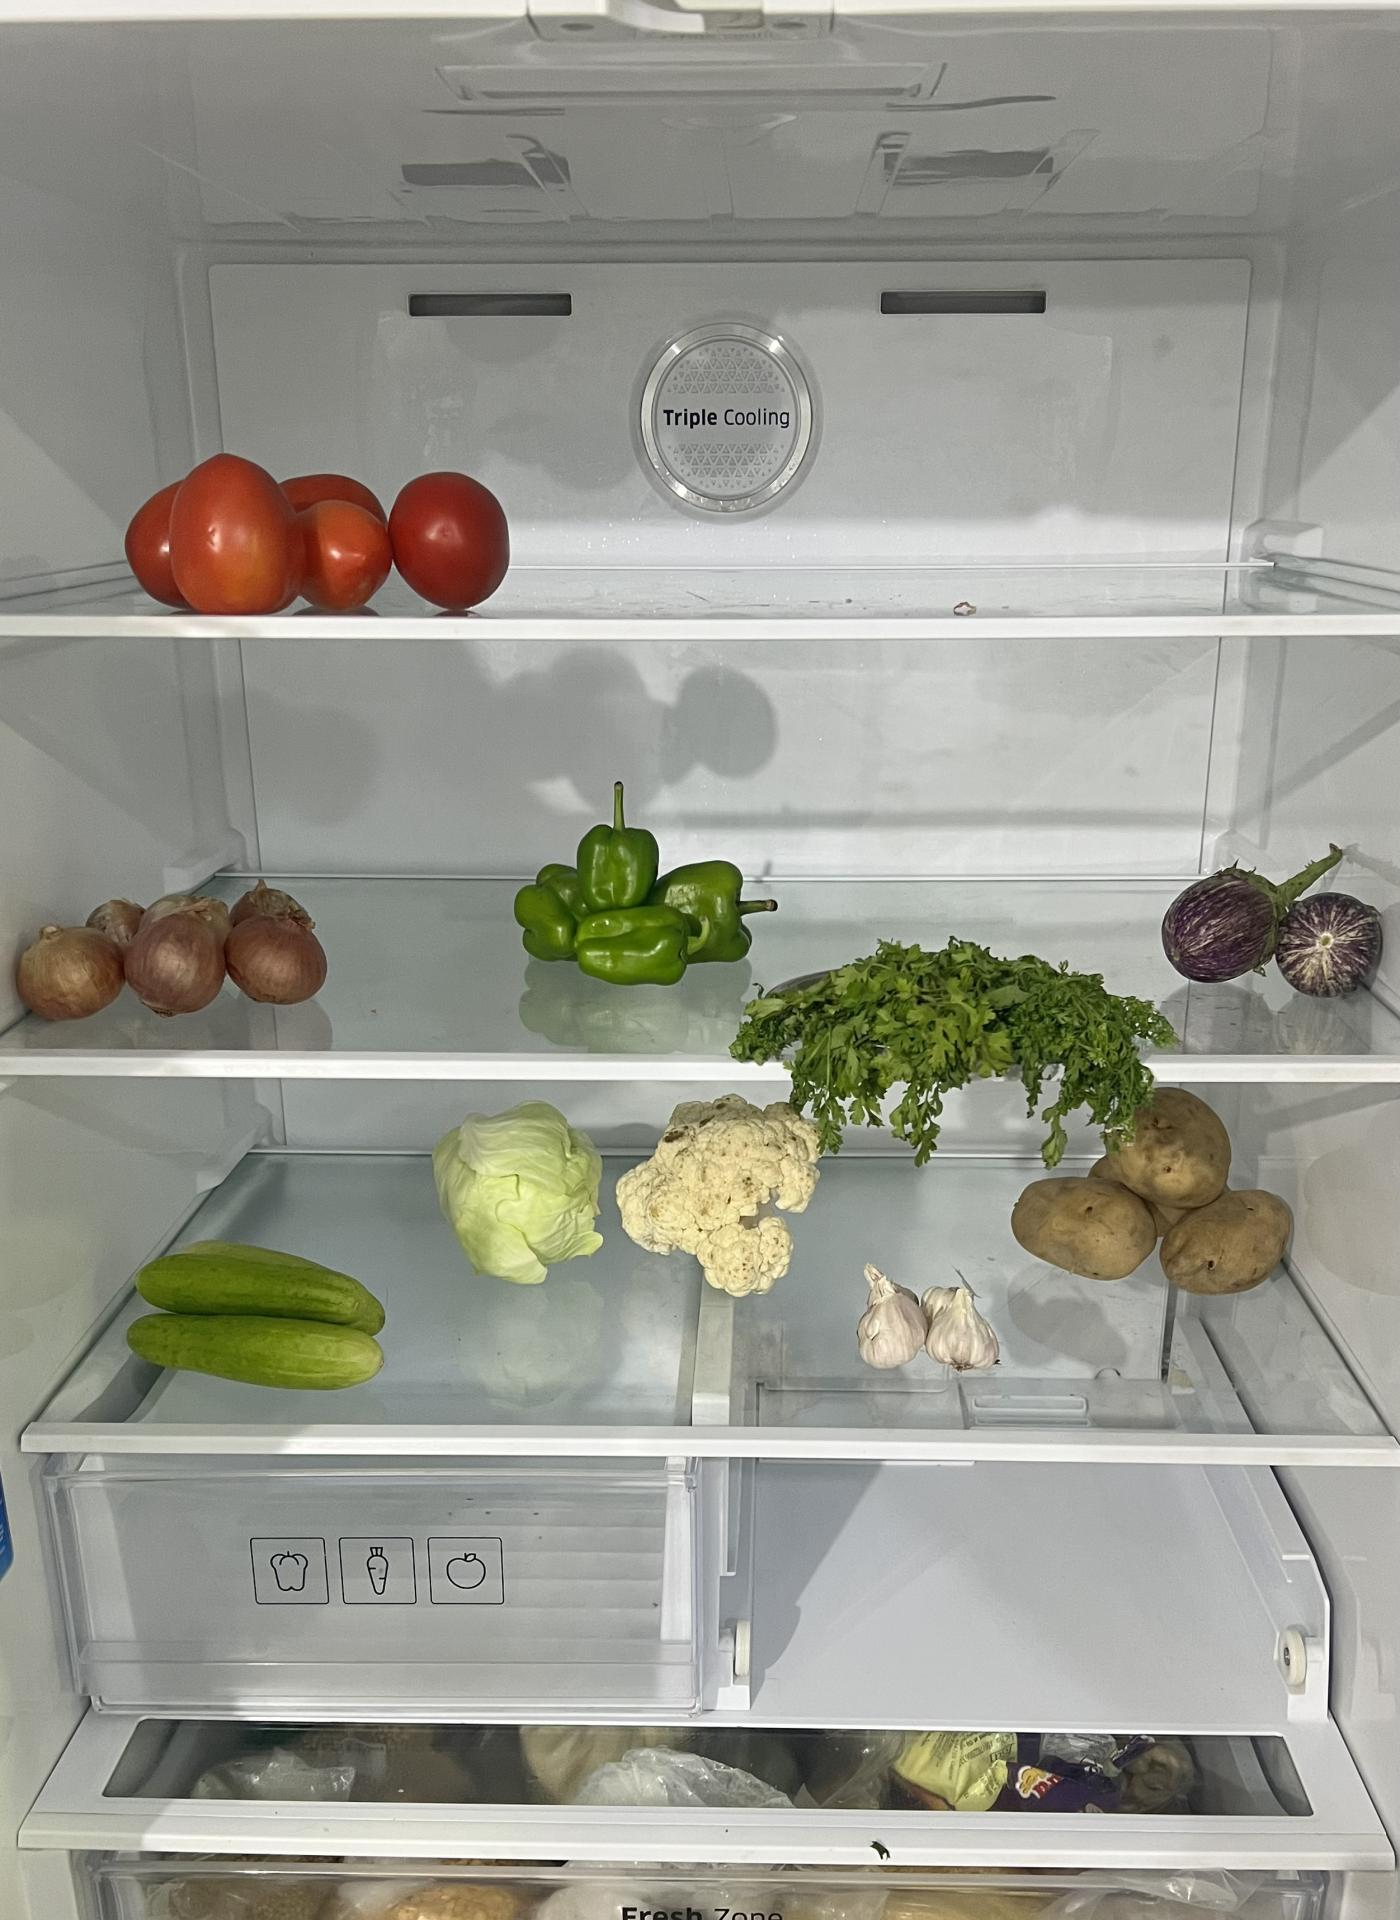brinjal: (1163, 860, 1381, 990)
cabbage: (437, 1108, 604, 1286)
capsicum: (519, 809, 759, 979)
cauliflower: (625, 1103, 826, 1300)
coriander: (737, 941, 1161, 1115)
cucumber: (118, 1248, 395, 1395)
garlic: (856, 1261, 1003, 1373)
onion: (12, 880, 325, 1012)
potato: (1014, 1097, 1297, 1300)
tomato: (127, 464, 516, 623)
